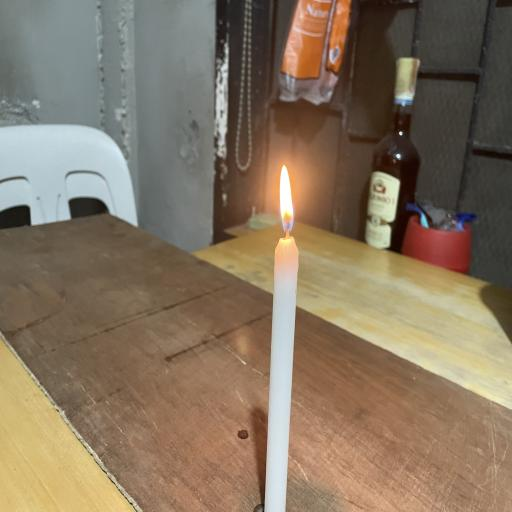fire: (265, 158, 309, 247)
